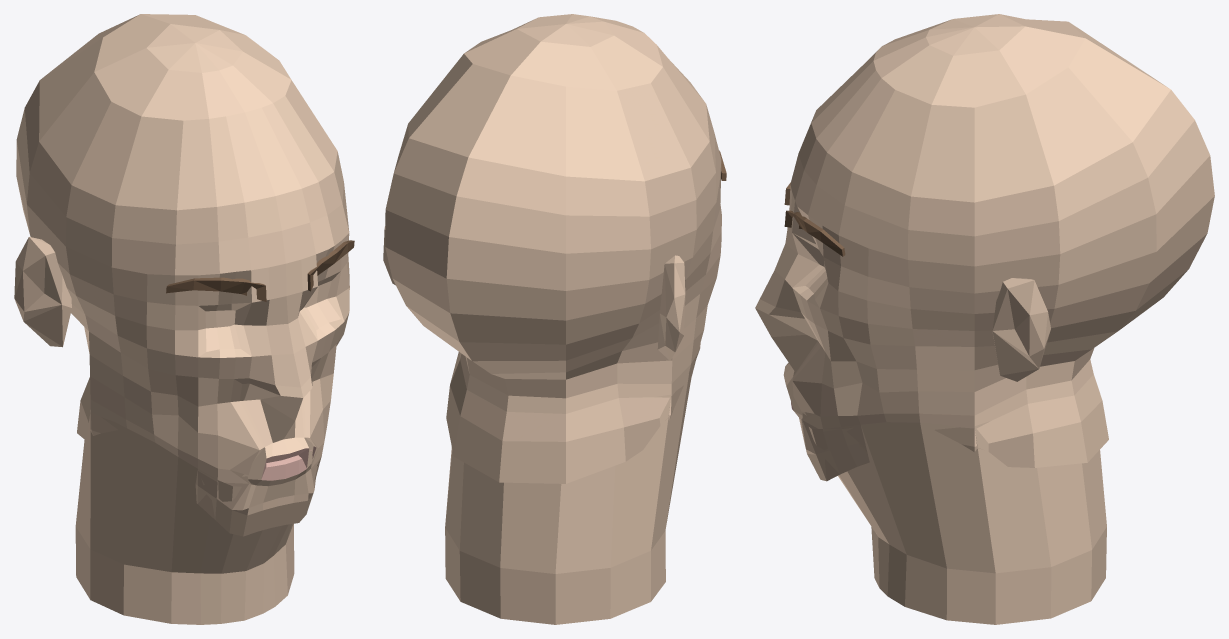
File: head_tpl_v4.glb
3 views of the same model, side by side, from view 1: azimuth 30°, elevation 25°; view 2: azimuth 150°, elevation 25°; view 3: azimuth 270°, elevation 25° (orthographic).
Parts seen in each view (by area): view 1: Head_Main, Ears, Eyebrow_R, Eyebrow_L; view 2: Head_Main, Ears; view 3: Head_Main, Ears, Eyebrow_L.
Boxes of the visible parts, x1=… form: Head_Main: x1=16, y1=14, x2=349, y2=624; Ears: x1=14, y1=237, x2=71, y2=347; Eyebrow_R: x1=166, y1=277, x2=266, y2=301; Eyebrow_L: x1=307, y1=240, x2=354, y2=291; Head_Main: x1=385, y1=14, x2=721, y2=624; Ears: x1=383, y1=226, x2=685, y2=360; Head_Main: x1=755, y1=14, x2=1214, y2=624; Ears: x1=992, y1=278, x2=1050, y2=381; Eyebrow_L: x1=784, y1=210, x2=845, y2=256.
Bounding box in the file's own units: 0.1635 × 0.2886 × 0.218.
